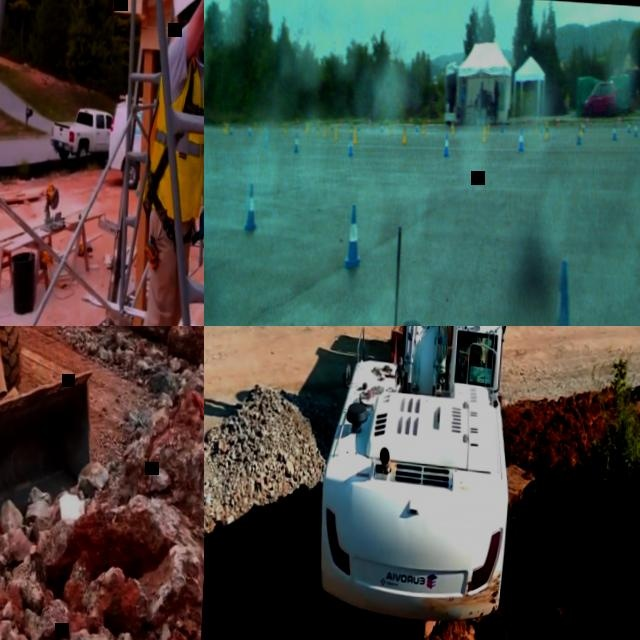Hardhat: (171, 0, 204, 18)
Person: (118, 0, 204, 326)
Safety Cone: (545, 257, 582, 326), (342, 202, 364, 268), (242, 183, 259, 232), (442, 131, 451, 156), (610, 117, 618, 139), (575, 123, 583, 144), (518, 127, 525, 150), (292, 131, 299, 153), (347, 133, 354, 155), (543, 117, 550, 138), (632, 116, 639, 136), (401, 124, 407, 145), (333, 123, 339, 141), (263, 130, 269, 148), (481, 124, 487, 141), (304, 118, 309, 134), (247, 121, 252, 136), (322, 122, 327, 137), (626, 118, 631, 132), (539, 118, 544, 132), (534, 119, 539, 133), (315, 121, 320, 135), (353, 126, 357, 143), (499, 120, 504, 133), (282, 121, 287, 134), (617, 112, 622, 124), (580, 120, 584, 135), (451, 121, 455, 135), (585, 113, 590, 124), (421, 122, 426, 133), (415, 121, 420, 132), (487, 121, 491, 134), (349, 121, 353, 134), (555, 115, 560, 125), (581, 119, 585, 131), (388, 122, 392, 134), (380, 120, 384, 132), (301, 117, 305, 129), (229, 123, 233, 134), (356, 119, 360, 130), (225, 122, 229, 133), (222, 121, 225, 131), (427, 116, 430, 125), (368, 116, 371, 124), (396, 115, 399, 123), (409, 117, 412, 124)
Safety Vest: (140, 40, 204, 221)
machinery: (313, 326, 530, 624), (0, 326, 110, 541)
vehicle: (105, 93, 161, 190), (49, 105, 112, 161)
